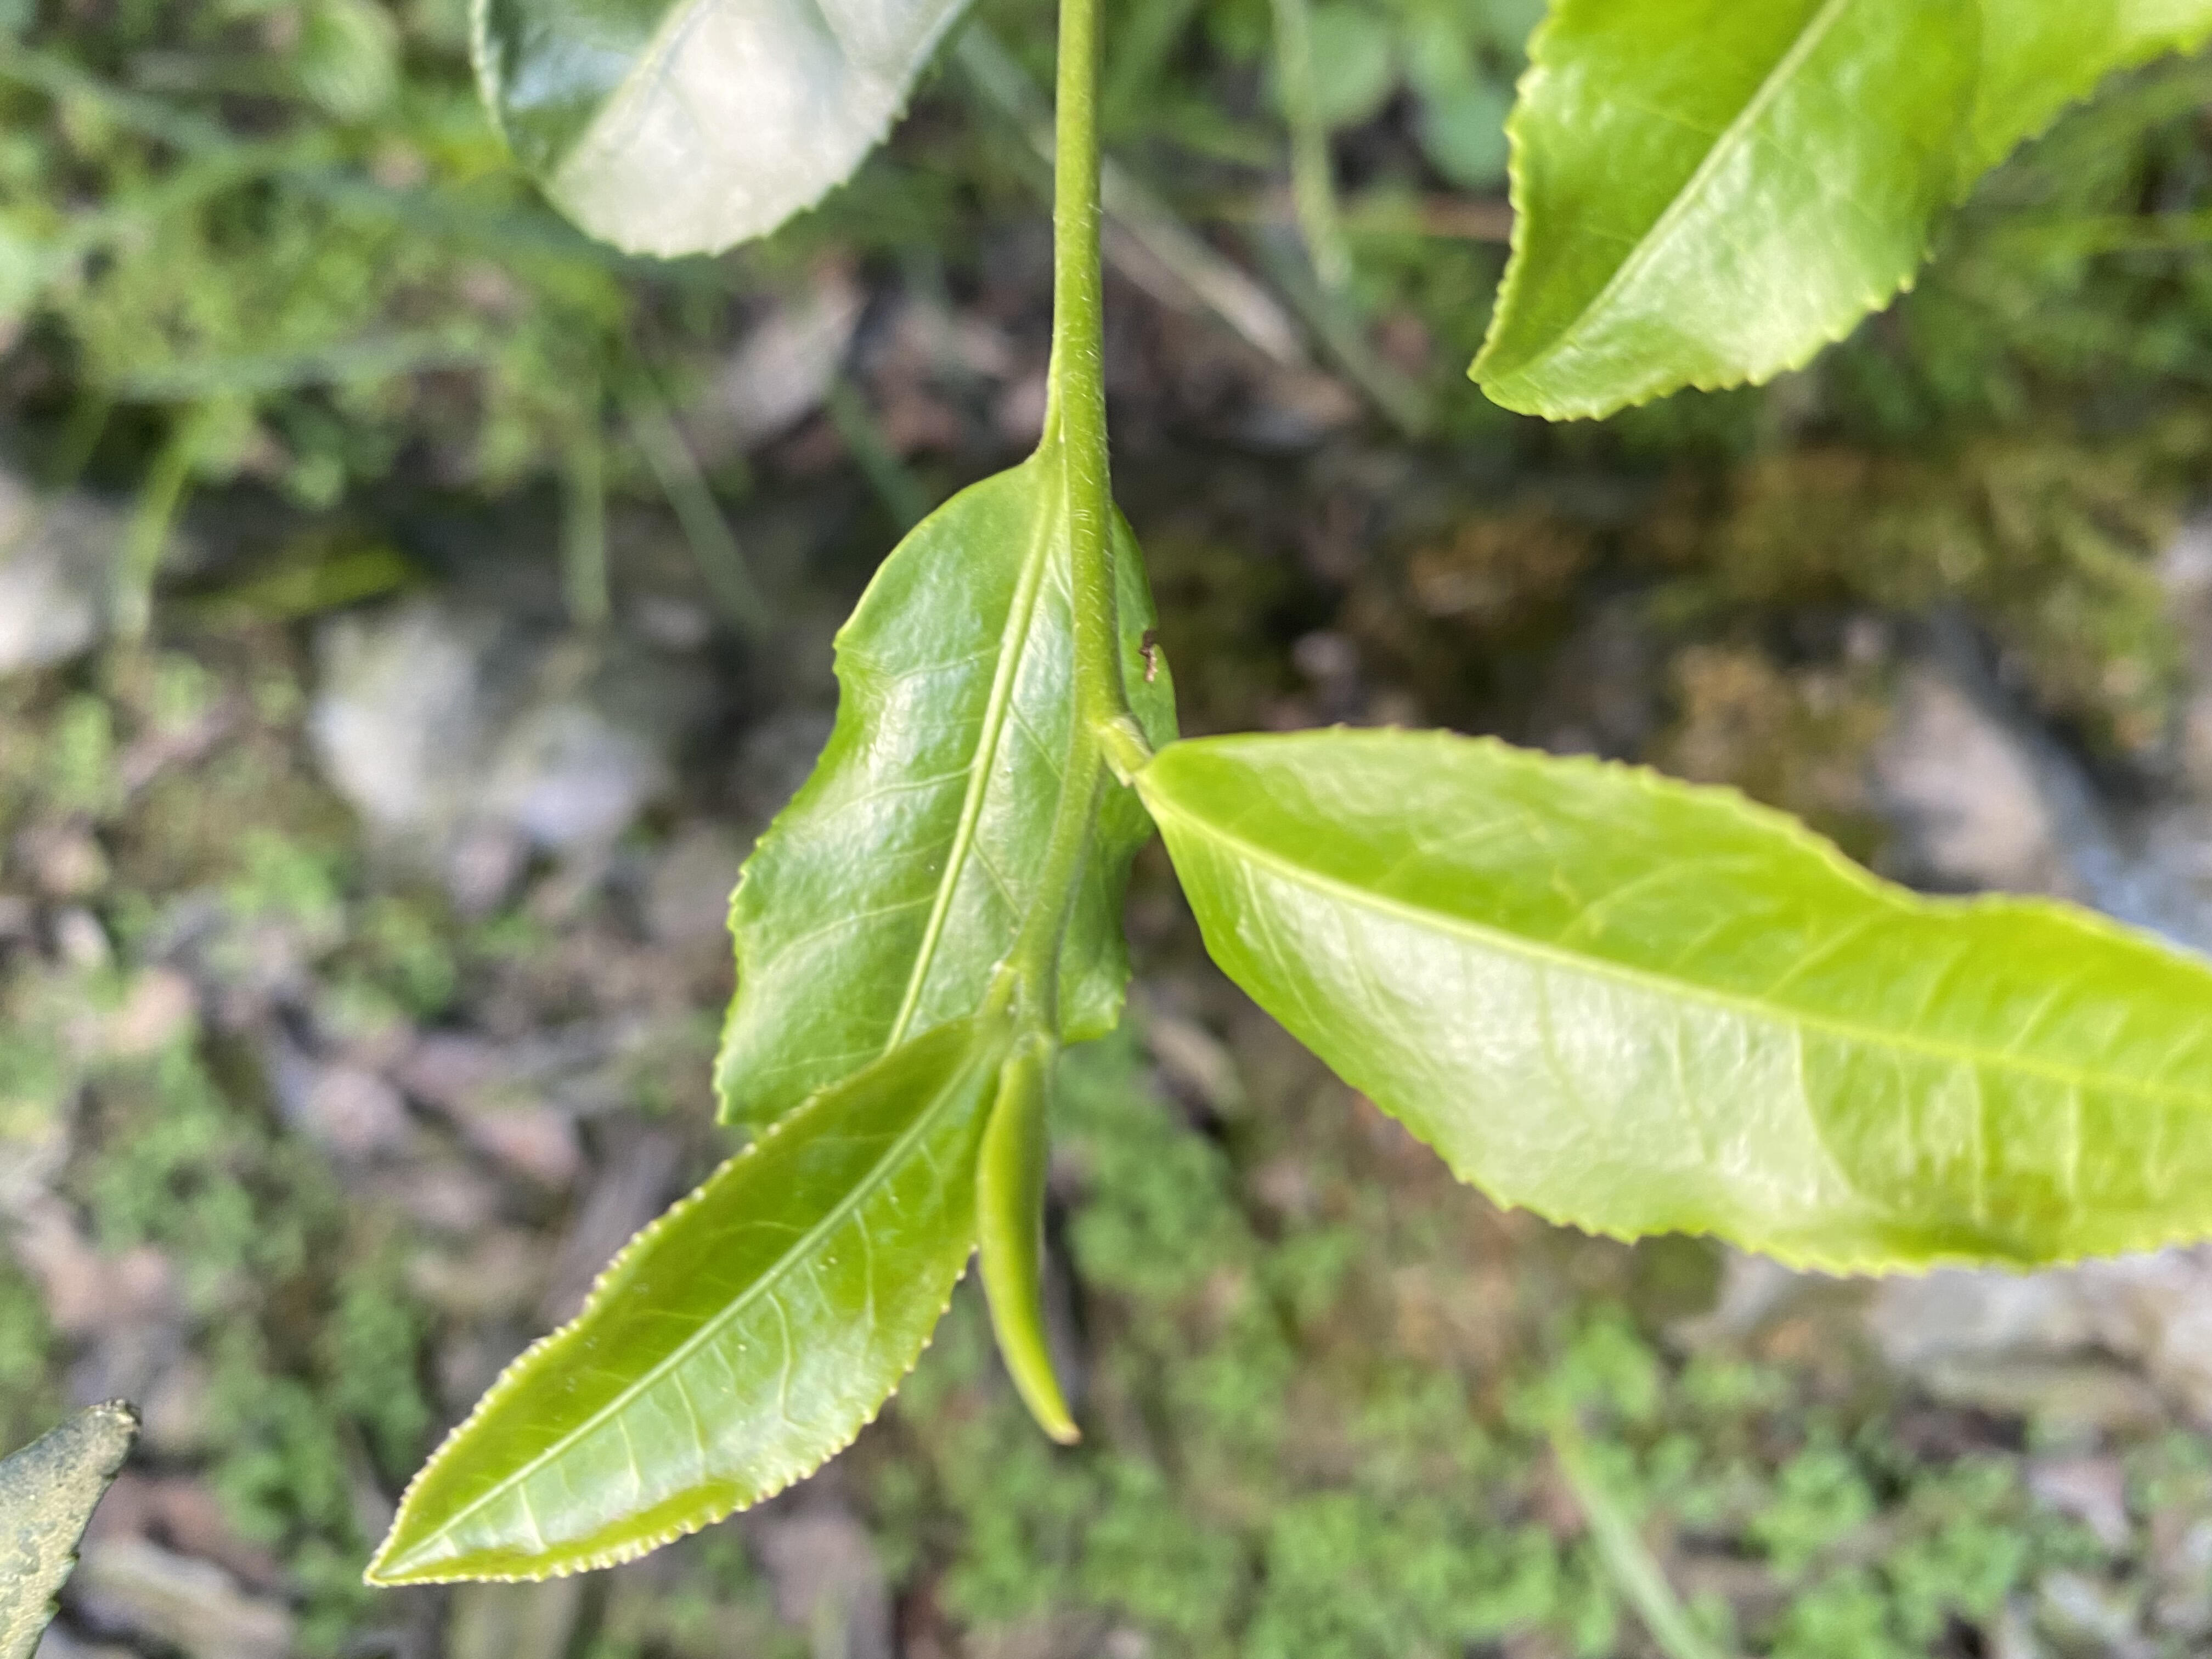healthy: (1143, 716, 2207, 1288), (362, 1012, 998, 1591), (1458, 3, 2209, 430)
tanju_low: (711, 453, 1179, 1133)
